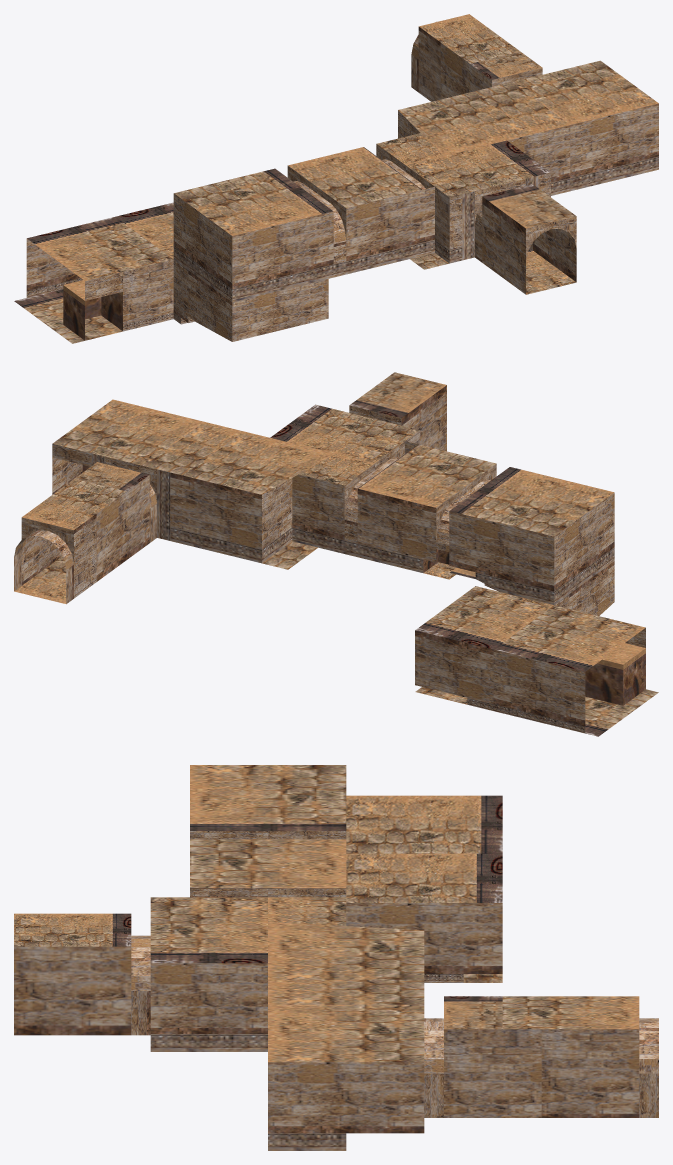
File: DustParts1.fbx
3 views of the same model, one above another, from view 1: azimuth 30°, elevation 25°; view 2: azimuth 150°, elevation 25°; view 3: azimuth 270°, elevation 25° (orthographic). The views are drawn at different scales.
Parts seen in each view (by area): view 1: Trigger1; view 2: Trigger1; view 3: Trigger1.
Part boxes in pixels (x1,y1,x2,y2): Trigger1: (14,14,658,343); Trigger1: (14,372,658,736); Trigger1: (14,765,658,1150).
Size of the model in its own units: 35.51 by 7.67 by 26.63.
